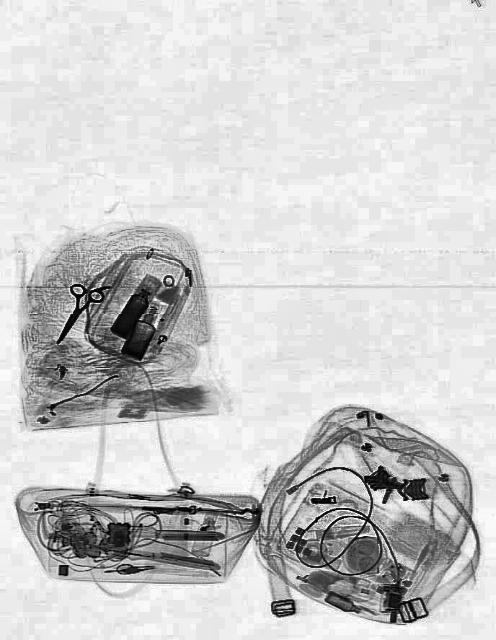Scissors: (44, 272, 104, 354)
